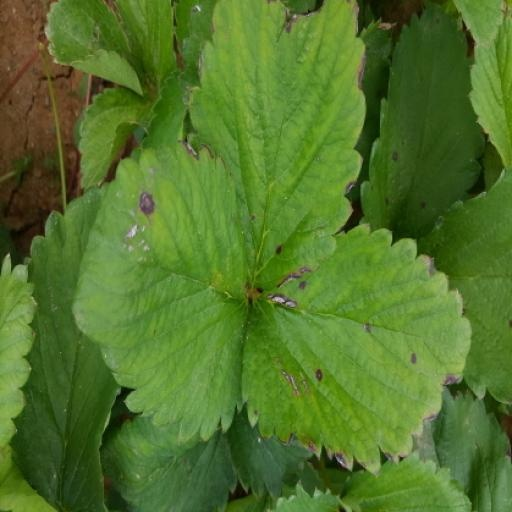Leaf Spot: (241, 33, 471, 289), (70, 66, 252, 371), (186, 222, 367, 511), (359, 267, 488, 510), (417, 105, 511, 345)
